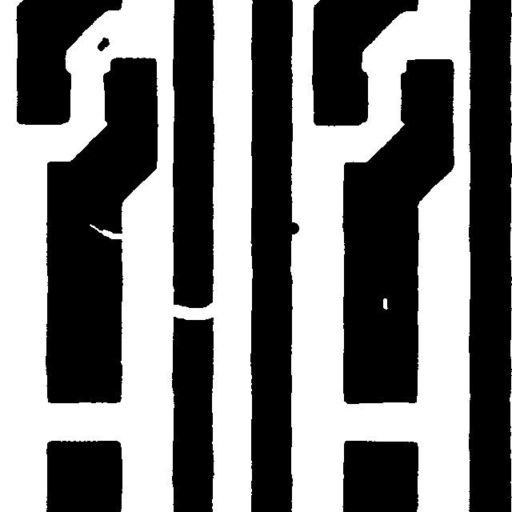copper: (90, 30, 117, 58)
mousebite: (82, 216, 134, 246)
open: (162, 294, 227, 327)
pin-hole: (375, 290, 395, 317)
spur: (277, 214, 306, 242)
